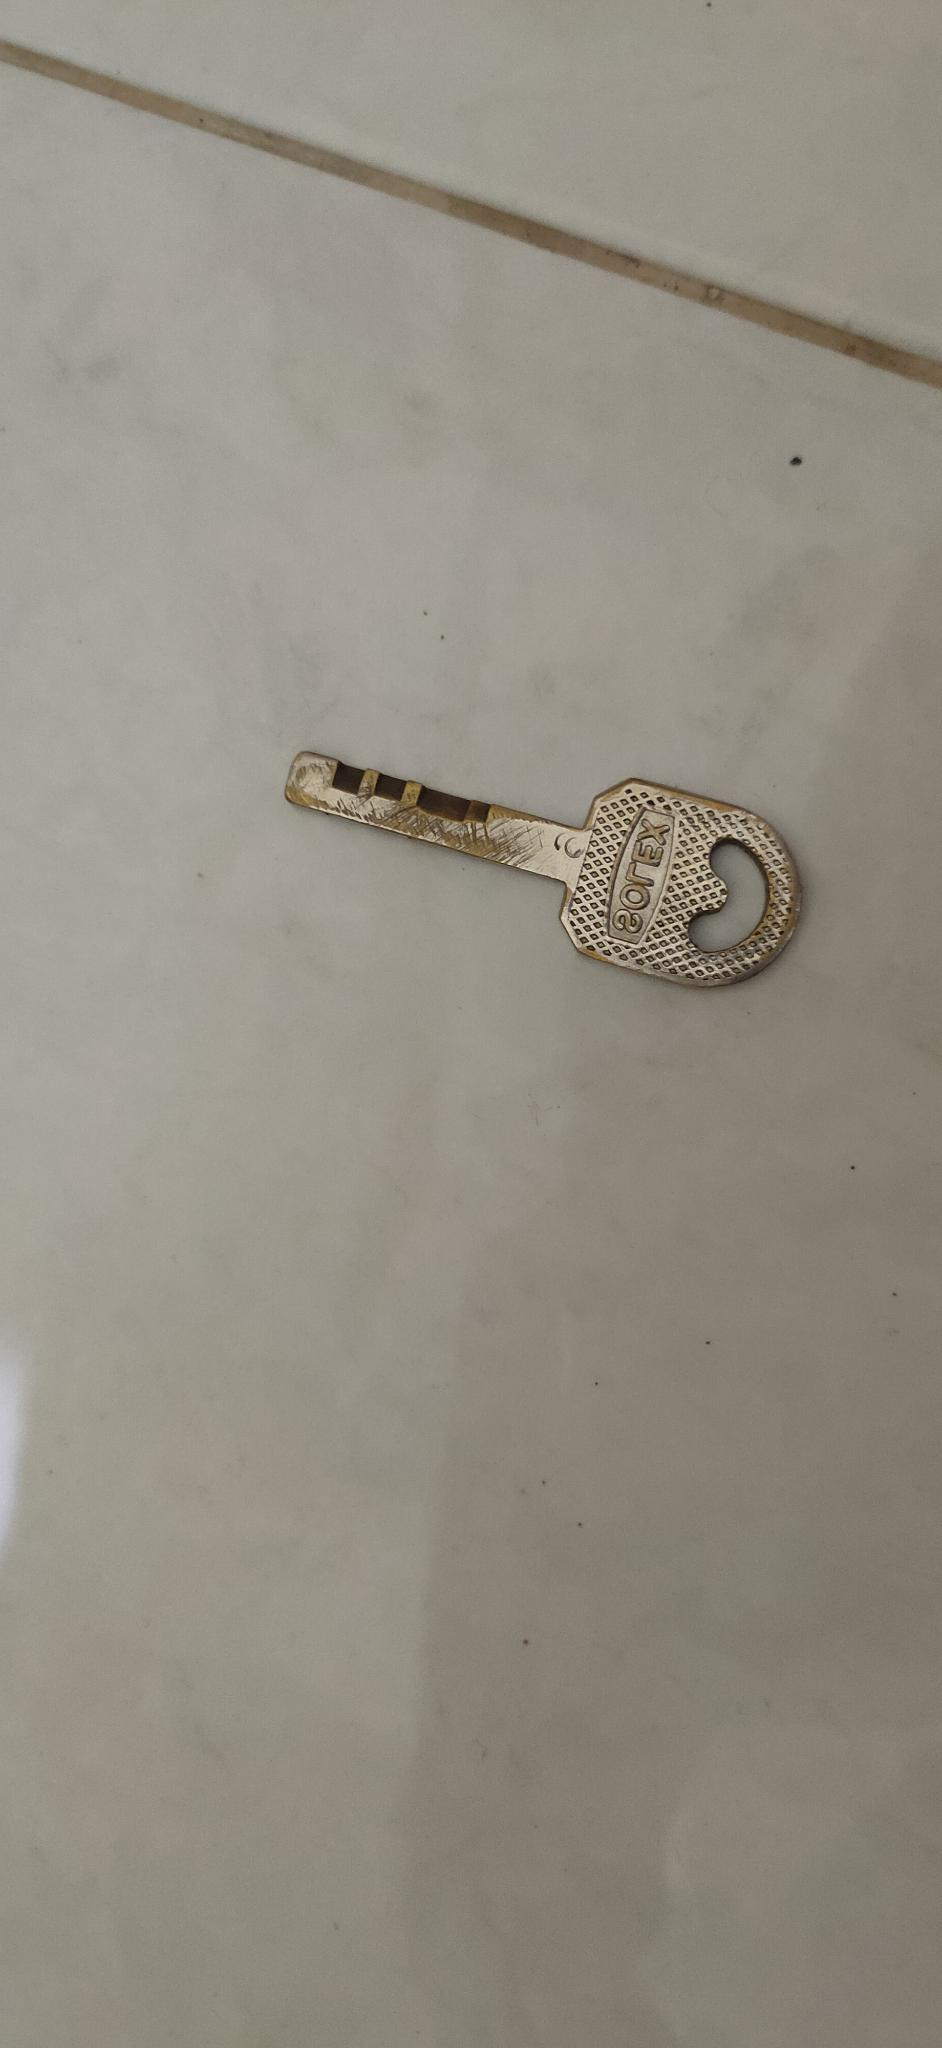keys: (251, 713, 818, 1004)
